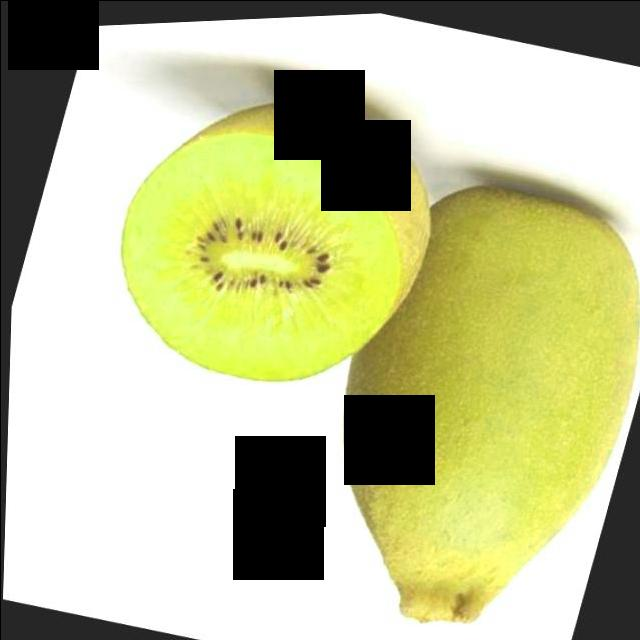kiwi: (283, 140, 640, 640)
